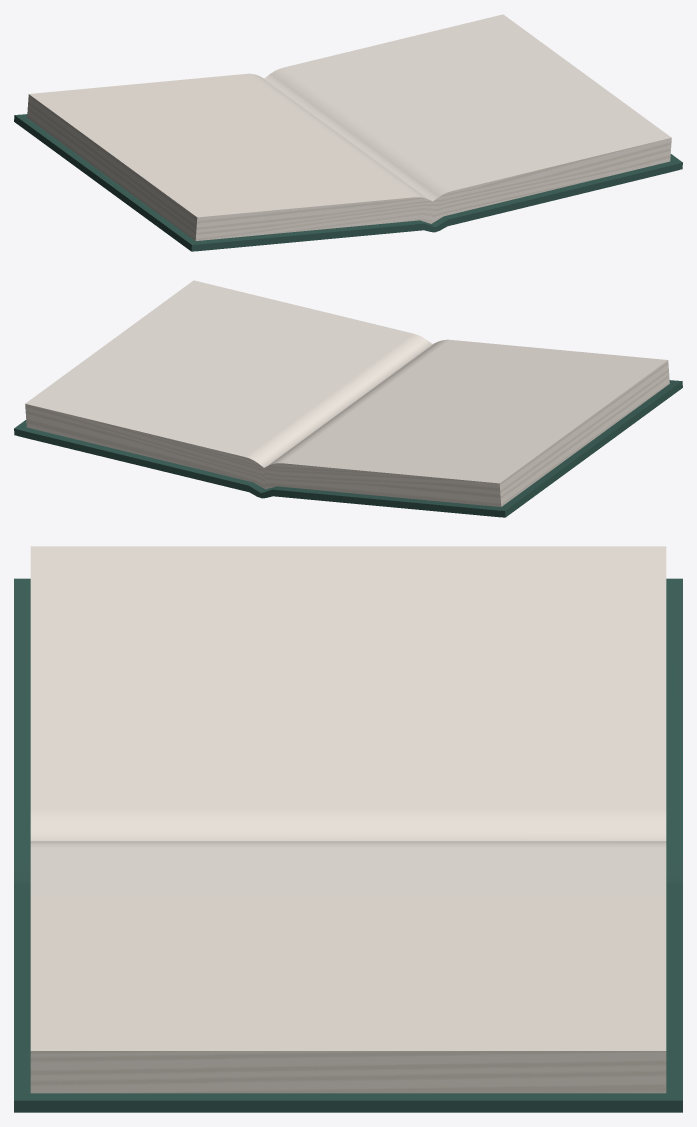
Rendered from book3.fbx.
3 views of the same model, one above another, from view 1: azimuth 30°, elevation 25°; view 2: azimuth 150°, elevation 25°; view 3: azimuth 270°, elevation 25° (orthographic). The views are drawn at different scales.
Visible parts, largest first — view 1: pCube1; view 2: pCube1; view 3: pCube1.
Part boxes in pixels (<box>): pCube1: <box>14,14,682,251</box>; pCube1: <box>14,280,682,517</box>; pCube1: <box>14,546,682,1112</box>.
Size of the model in its own units: 17.15 by 2.29 by 10.72.
